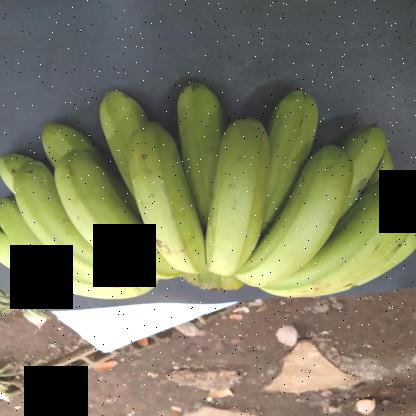freshunripe: (239, 144, 358, 292), (52, 149, 177, 286), (8, 161, 119, 281), (201, 124, 278, 278), (260, 90, 323, 171), (172, 82, 227, 170)
unripe: (270, 179, 416, 295), (123, 123, 208, 278)
